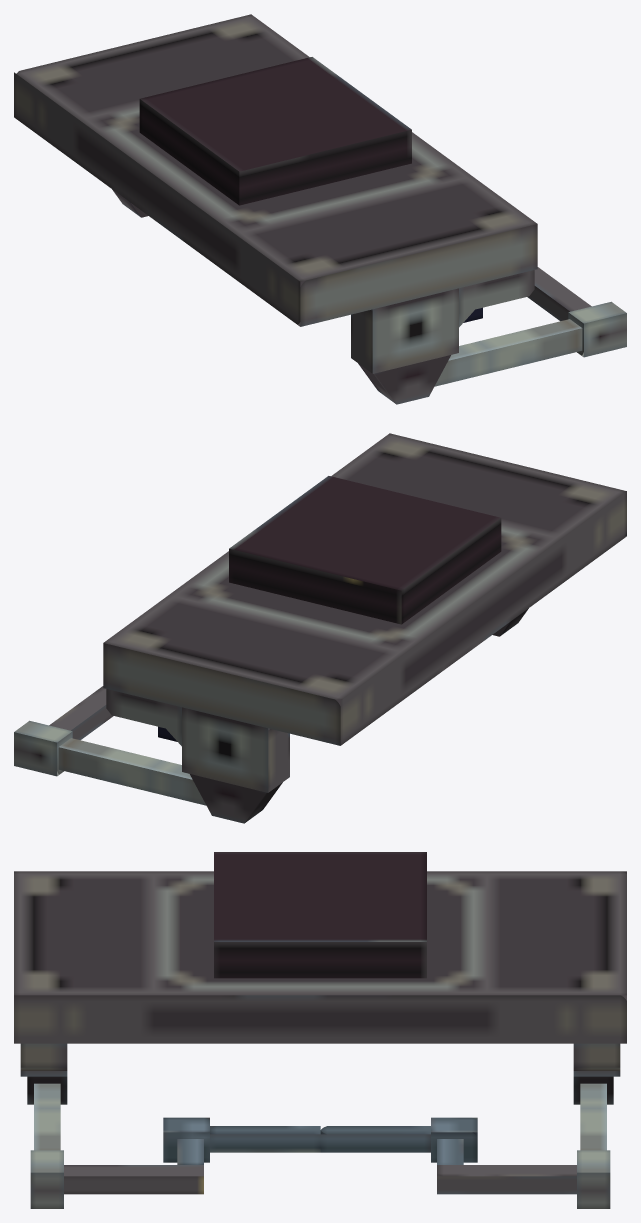
Rendered from df21_top.obj.
The picture shows the model from 3 angles, top to bottom: view 1: azimuth 30°, elevation 25°; view 2: azimuth 150°, elevation 25°; view 3: azimuth 270°, elevation 25°; orthographic projection. The views are drawn at different scales.
Visible parts, largest first — view 1: cuboid_selection; view 2: cuboid_selection; view 3: cuboid_selection, cube.
Boxes of the visible parts, <box> form: cuboid_selection: <box>14,14,626,404</box>; cuboid_selection: <box>14,433,626,823</box>; cuboid_selection: <box>14,852,626,1208</box>; cube: <box>163,1117,477,1162</box>.
Size of the model in its own units: 1.94 by 1.03 by 2.88.
